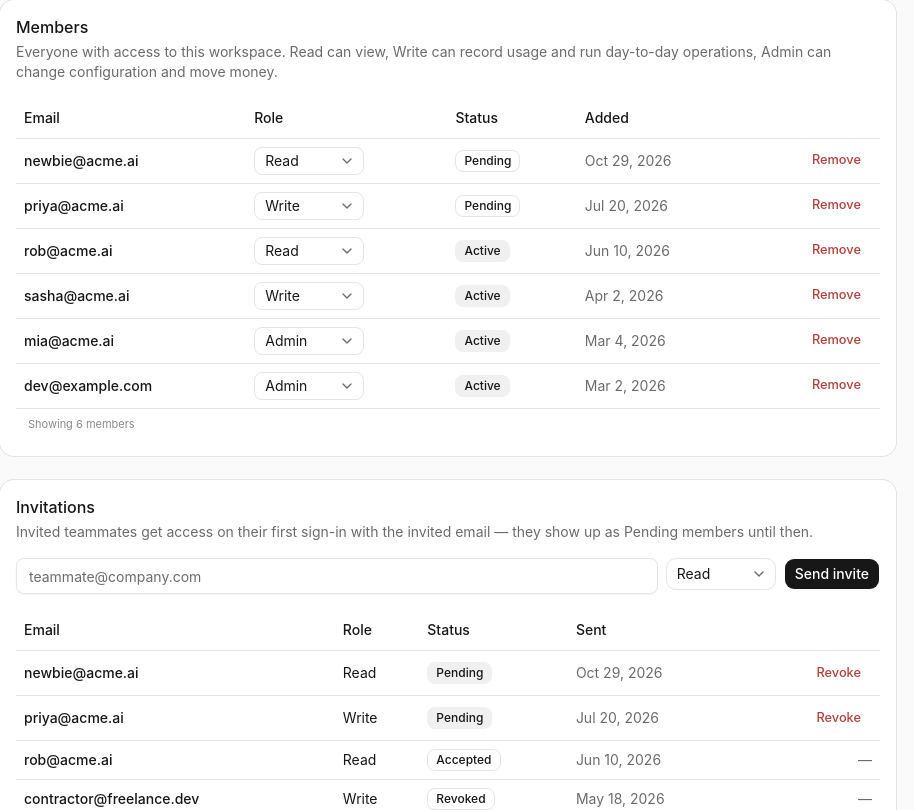
Test: TeamPage › rejects inviting an existing member with the server's message
Expected: the text "mia@acme.ai" is shown, [16,318,246,363]
Type "mia@acme.ai" into the field named "Email to invite" at x=337, y=576, box [16,558,658,594]
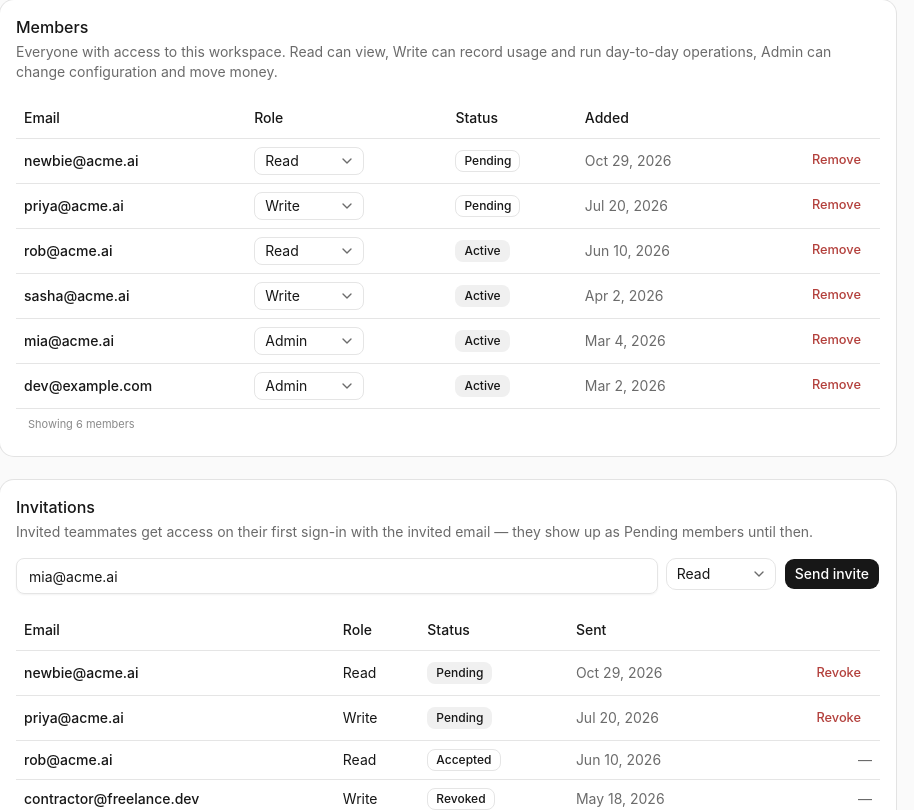
Click the button "Send invite" at x=832, y=574, box [784,558,880,590]
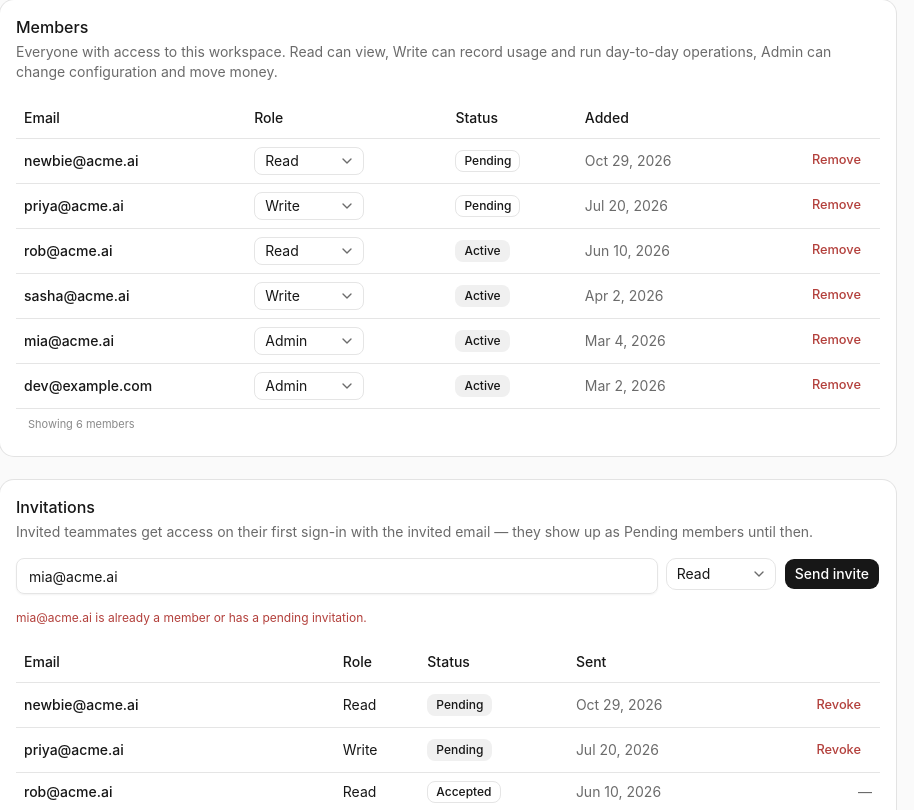
Expected: the text "mia@acme.ai is already a member or has a pending invitation." is shown, [16,610,367,625]
